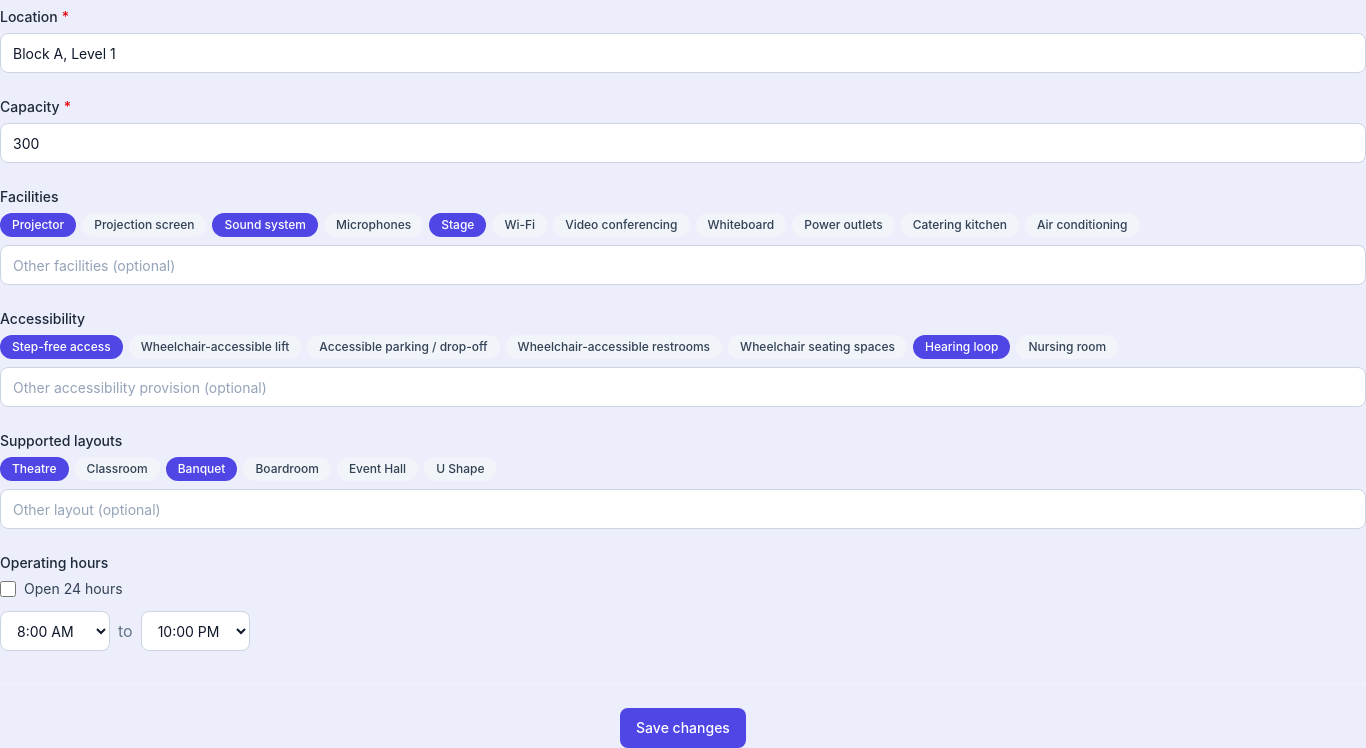
Scenario: US-14: editing a venue › AC-3: shows no warning when nothing is at risk
(page scrolled)
Click the button "Save changes".
click(683, 728)  # box [620,708,746,747]
(page scrolled)
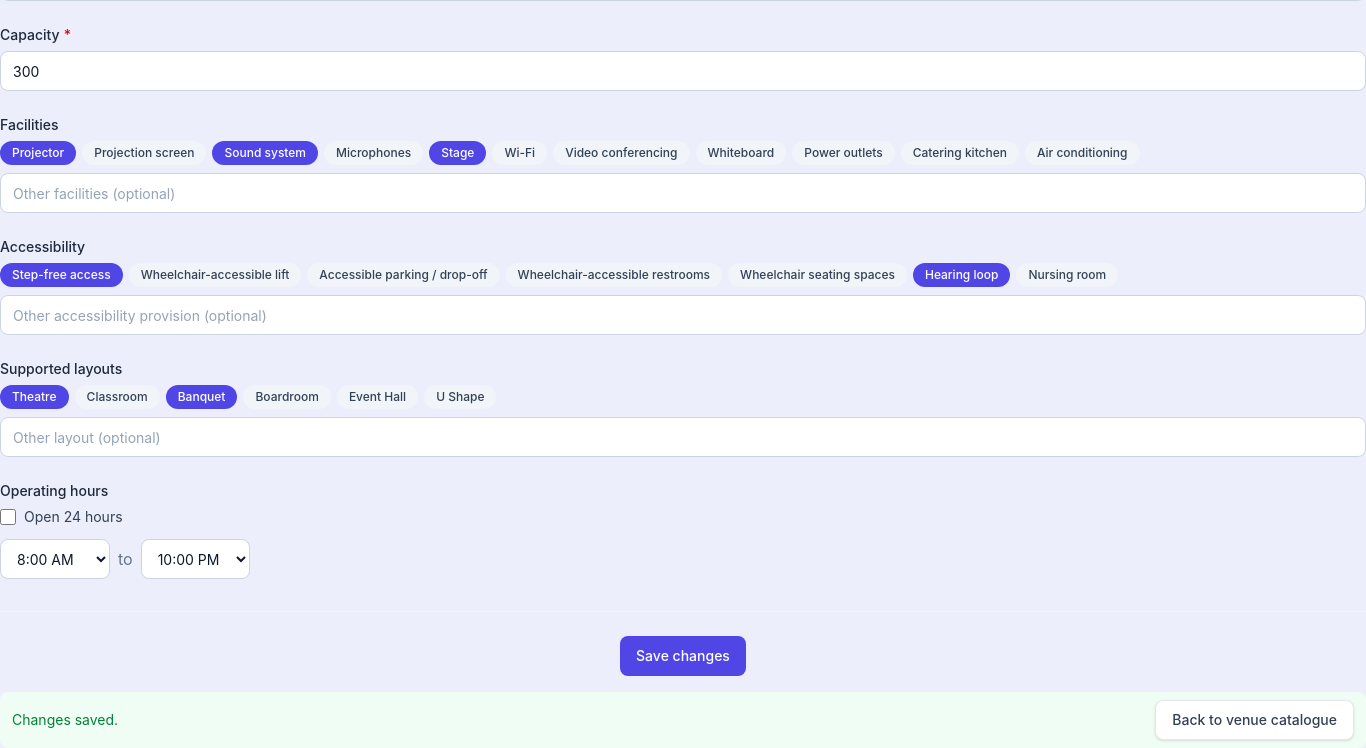
Expected: the message "Changes saved." is shown, [12,710,118,730]
